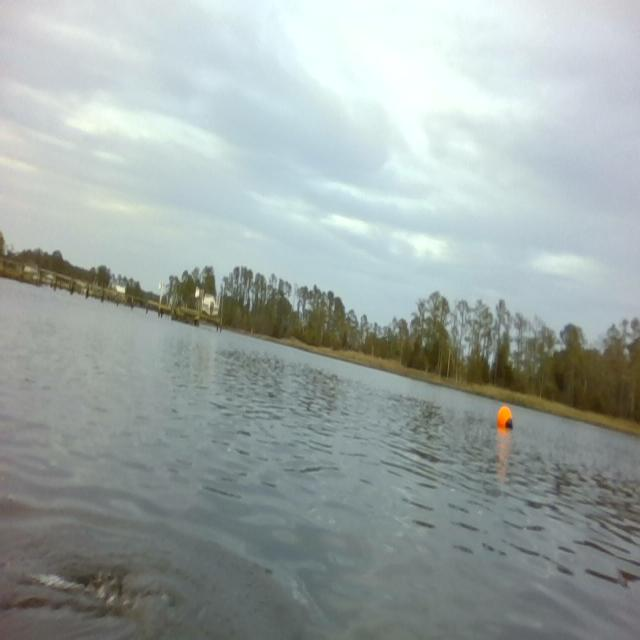Buoy: (496, 402, 514, 434)
